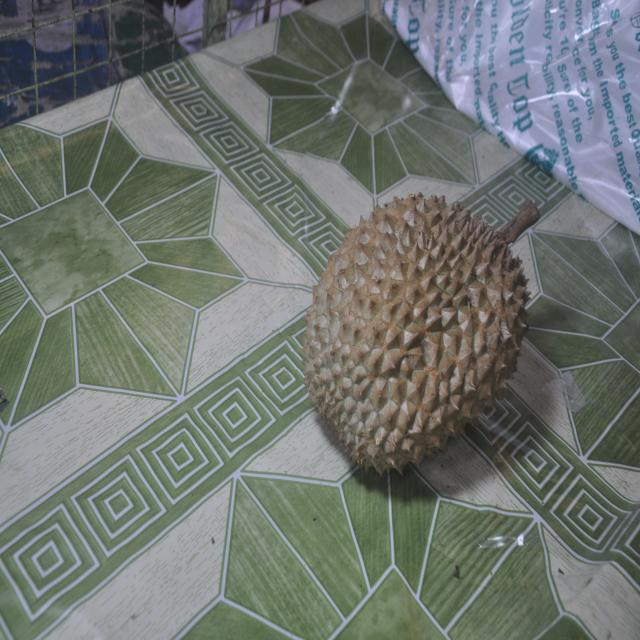mature: (303, 193, 539, 510)
